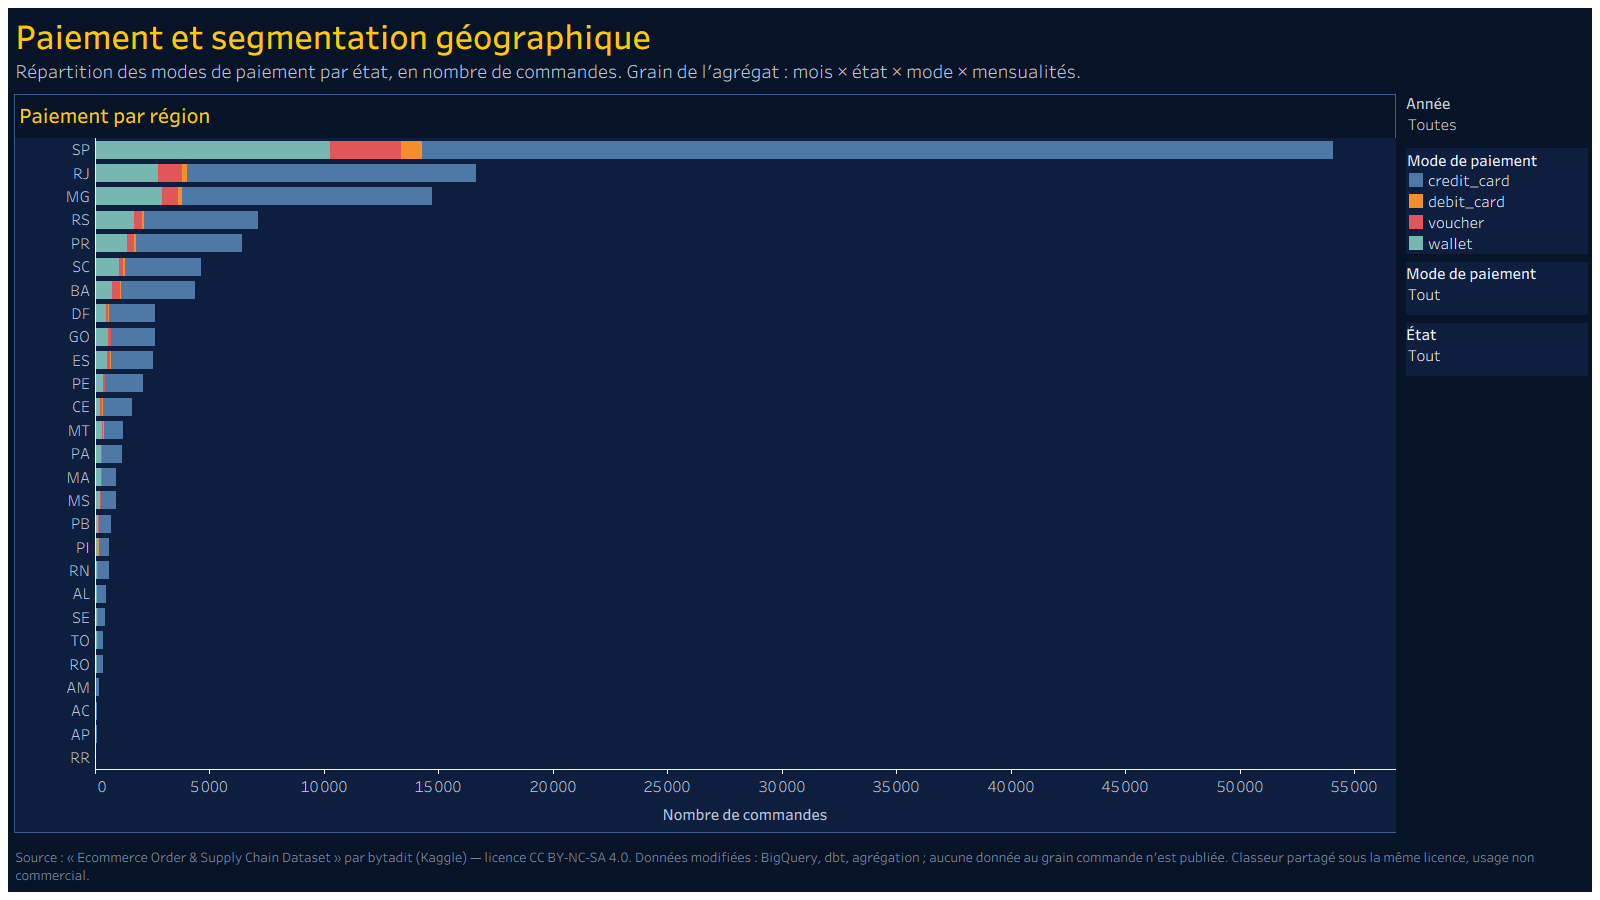

The page's visual inventory and layout, read from the dashboard file:
{"tool":"tableau","page":{"name":"Paiement et segmentation","canvas":[1600,900],"ordinal":1},"visuals":[{"type":"text","box":[12.8,9,1574.4,79.4]},{"type":"worksheet","title":"Paiement par région","mark":"Automatic","rows":["customer_state"],"cols":["nb_orders"],"box":[12.8,88.4,1317.8,749.7]},{"type":"parameter","param":"[Parameters].[Paramètre 1473408854364161]","box":[1330.6,88.4,256.6,67.5]},{"type":"legend","title":"Paiement par région","param":"[federated.0zfv7x116edgm81ffm2jn1m4gobj].[none:payment_type:nk]","box":[1330.6,155.9,256.6,127.4]},{"type":"filter","title":"Paiement par région","param":"[federated.0zfv7x116edgm81ffm2jn1m4gobj].[none:payment_type:nk]","box":[1330.6,283.3,256.6,194.9]},{"type":"filter","title":"Paiement par région","param":"[federated.0zfv7x116edgm81ffm2jn1m4gobj].[none:customer_state:nk]","box":[1330.6,478.2,256.6,359.9]},{"type":"text","box":[12.8,838.1,1574.4,52.9]}]}

Visuals, with their boxes in screenshot pixels (x1, y1, x2, y2), scaled from the page's 1600x900 canvas onto the 1600x900 screenshot:
text: detection(13, 9, 1587, 88)
"Paiement par région" worksheet: detection(13, 88, 1331, 838)
parameter: detection(1331, 88, 1587, 156)
"Paiement par région" legend: detection(1331, 156, 1587, 283)
"Paiement par région" filter: detection(1331, 283, 1587, 478)
"Paiement par région" filter: detection(1331, 478, 1587, 838)
text: detection(13, 838, 1587, 891)
